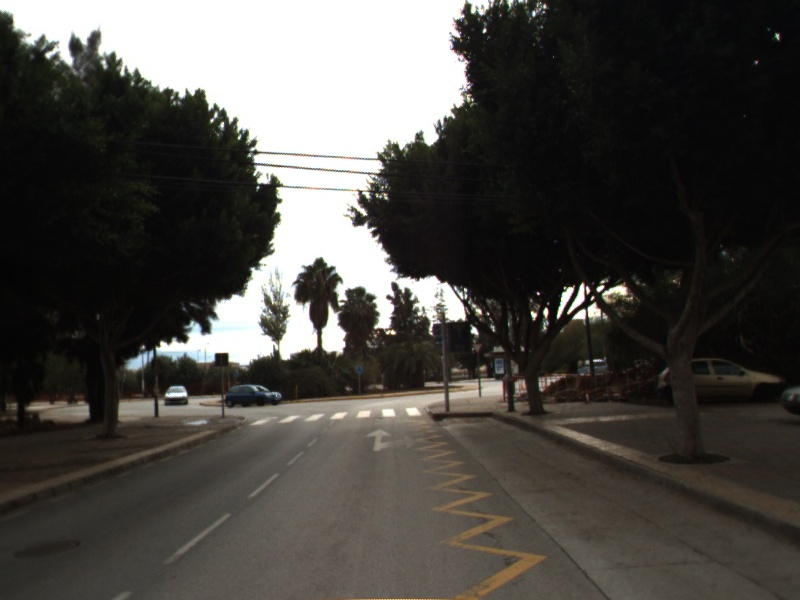STRAIGHT_RIGHT: (363, 426, 420, 453)
